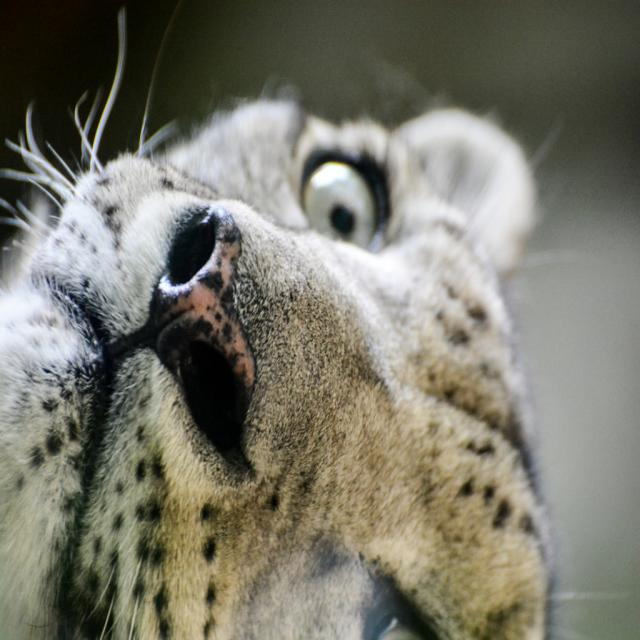Cheetah: (0, 5, 568, 640)
